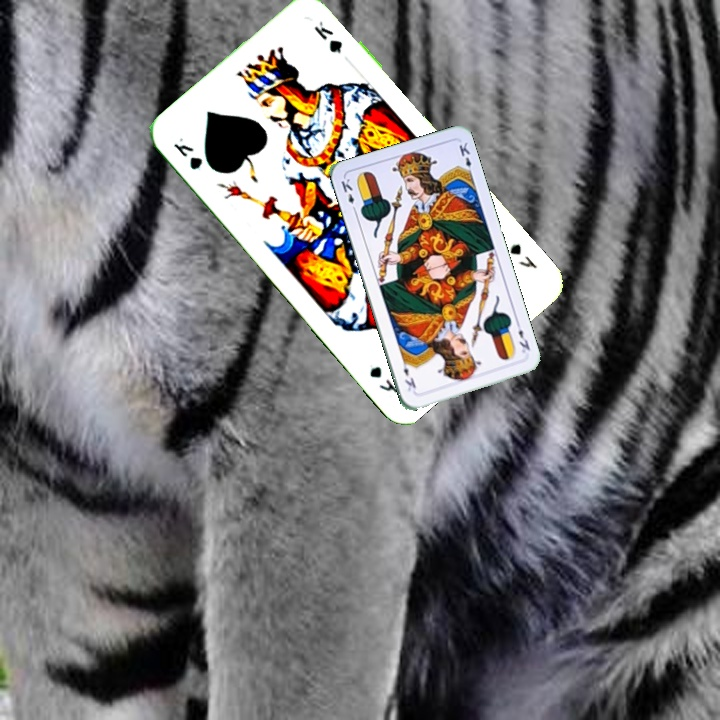EK: (337, 174, 359, 215), (512, 319, 533, 355)
GK: (169, 139, 205, 173), (505, 239, 540, 272)
